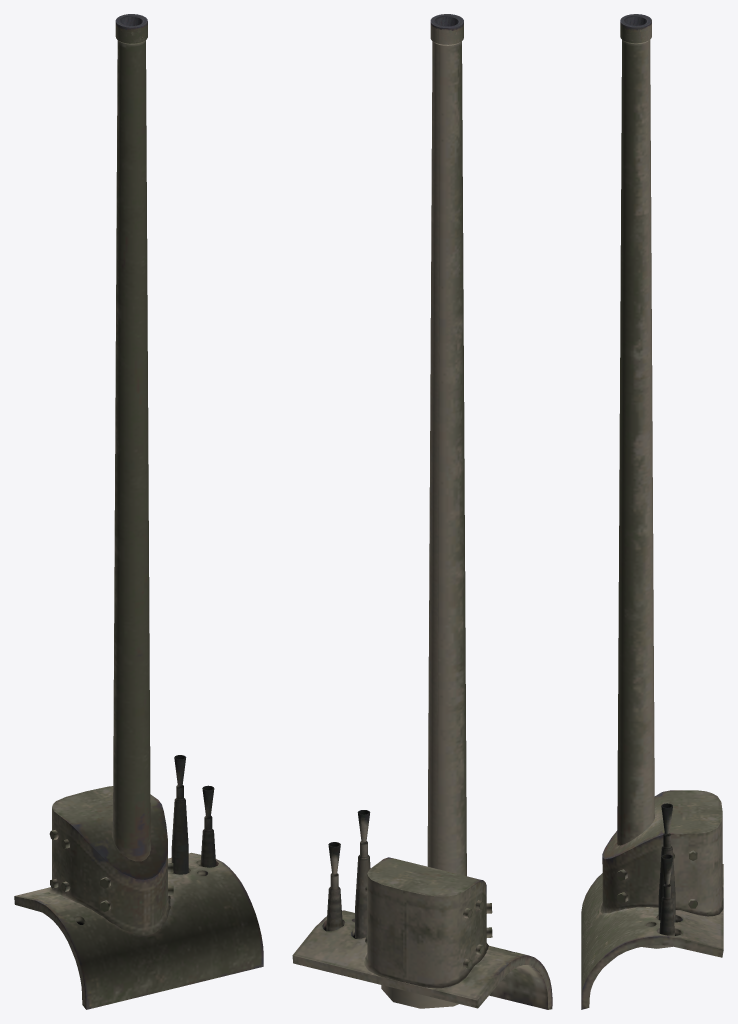
Rendered from Gun_06.glb.
3 renders of one model, left to right at view 1: azimuth 30°, elevation 25°; view 2: azimuth 150°, elevation 25°; view 3: azimuth 270°, elevation 25°, orthographic. The views are drawn at different scales.
Visible parts, largest first — view 1: set_0_group_0; view 2: set_0_group_0; view 3: set_0_group_0.
Part boxes in pixels (x1,y1,x2,y2): set_0_group_0: (14, 14, 263, 1009); set_0_group_0: (292, 14, 552, 1009); set_0_group_0: (581, 14, 723, 1009).
Bounding box in the file's own units: 0.7088 × 3.63 × 0.4996.
Materials: 1 (1 with a texture image).
